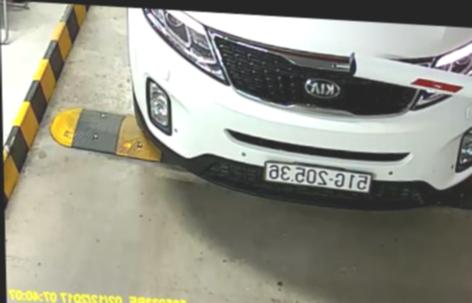License_Plate: (257, 159, 374, 197)
